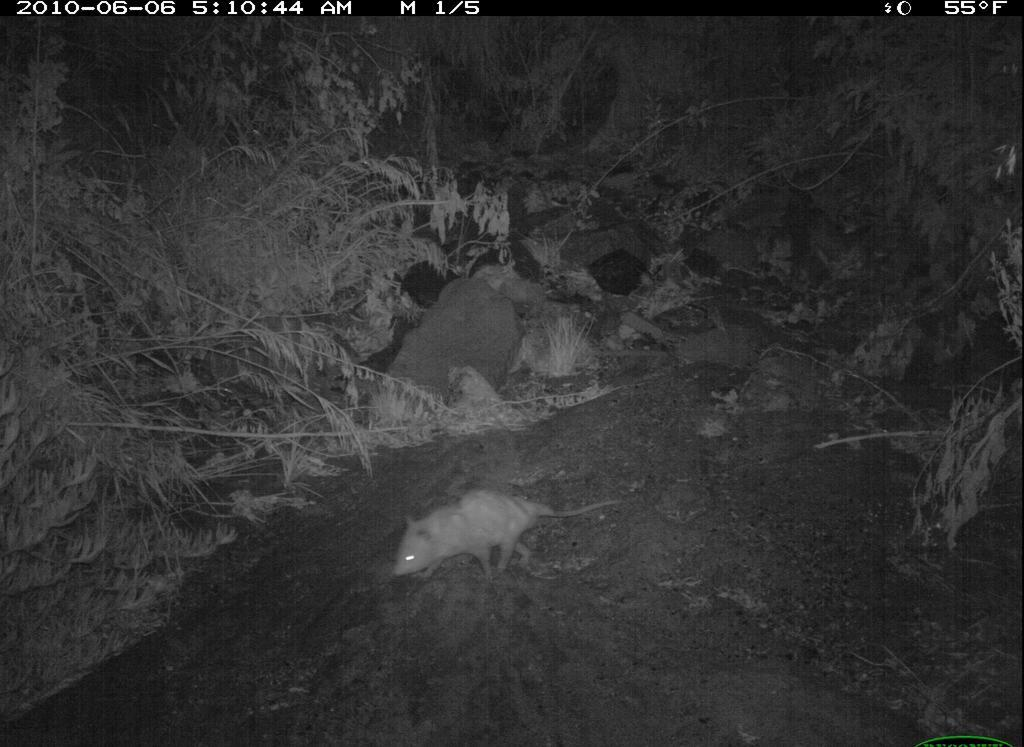opossum: (383, 491, 628, 597)
